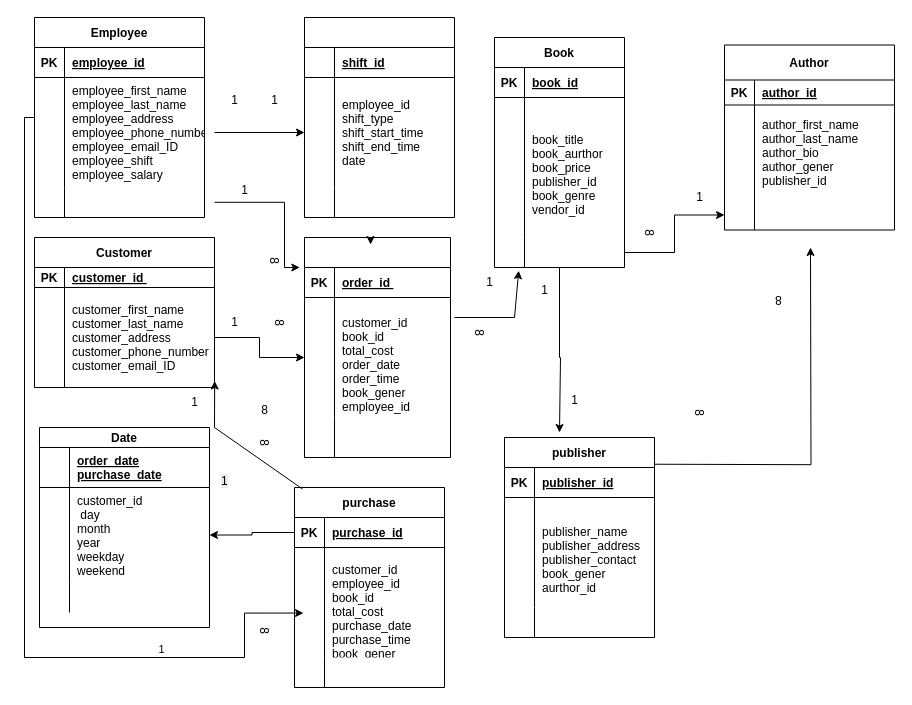
Some shapes in this 912 by 705 pixel diagram are drawn without their labels. The shapes that lost their labels are listed below. From the top down, each one's box as (x1, y1, x2, y2) in pixels, then its label:
(304, 16, 454, 218): employee shift
(304, 236, 450, 458): Orders
